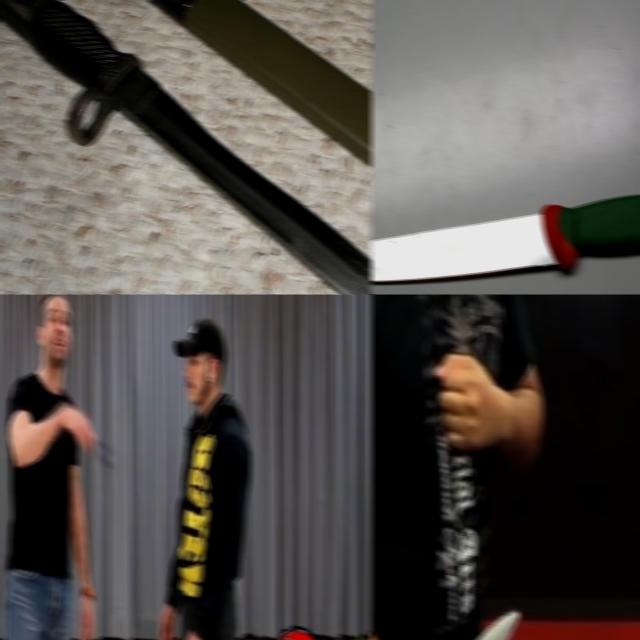Knife: (370, 194, 640, 282), (438, 612, 518, 640)
Knife_Handle: (379, 601, 519, 640), (58, 401, 118, 469)
